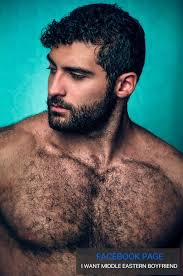middle_eastern_male: (44, 27, 127, 135)
